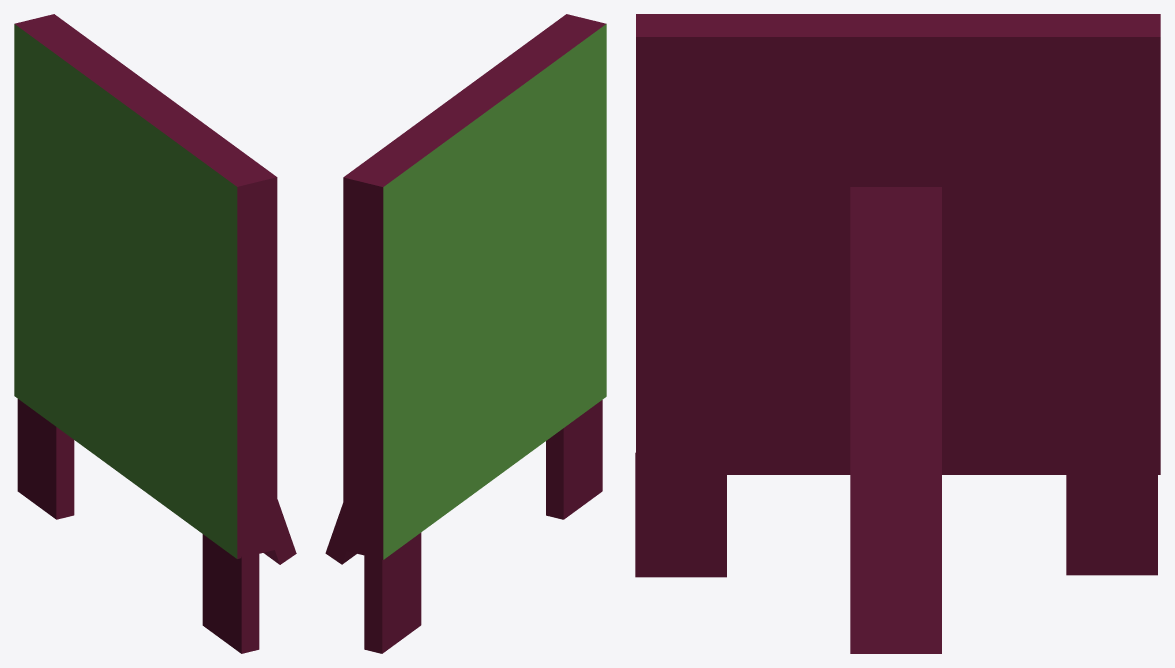
Rendered from Billboard.fbx.
3 renders of one model, left to right at view 1: azimuth 30°, elevation 25°; view 2: azimuth 150°, elevation 25°; view 3: azimuth 270°, elevation 25°, orthographic. The views are drawn at different scales.
Visible parts, largest first — view 1: polySurface698; view 2: polySurface698; view 3: polySurface698.
Part boxes in pixels (<box>): polySurface698: <box>14,14,296,653</box>; polySurface698: <box>325,14,606,653</box>; polySurface698: <box>635,14,1160,653</box>.
Size of the model in its own units: 13.03 by 39.47 by 33.42.
